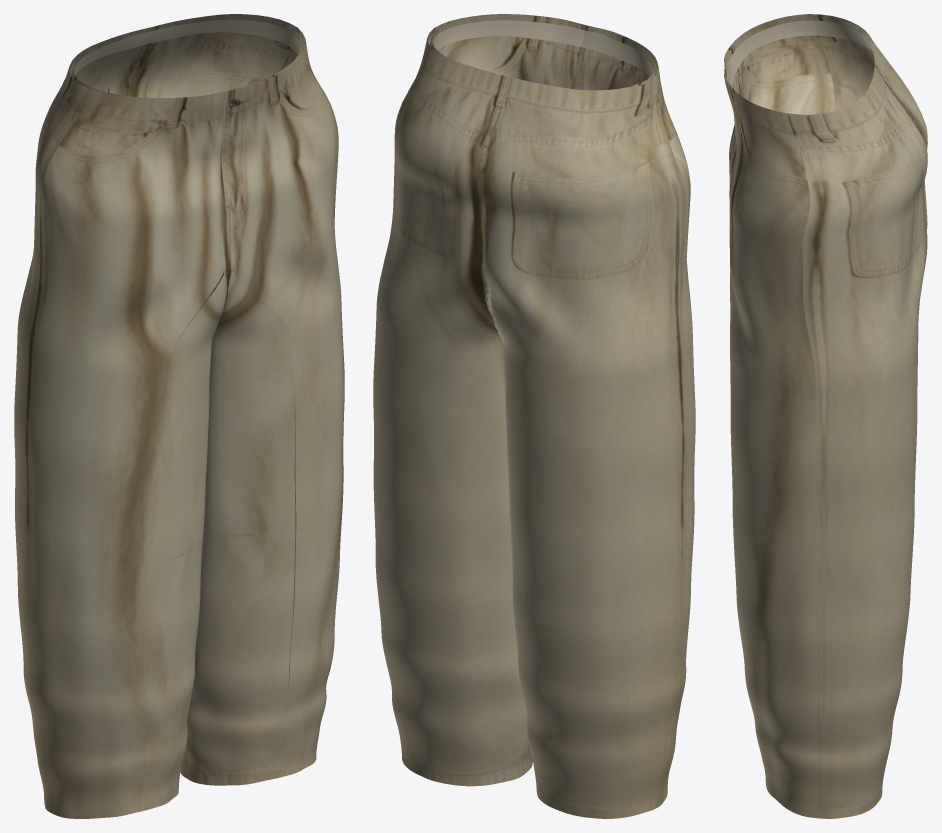
Rendered from signature-wide-chino.glb.
3 renders of one model, left to right at view 1: azimuth 30°, elevation 25°; view 2: azimuth 150°, elevation 25°; view 3: azimuth 270°, elevation 25°, orthographic. The views are drawn at different scales.
Visible parts, largest first — view 1: signature-wide-chino; view 2: signature-wide-chino; view 3: signature-wide-chino.
Boxes of the visible parts, left/top/right/bottom form: signature-wide-chino: left=14, top=14, right=344, bottom=818; signature-wide-chino: left=373, top=14, right=695, bottom=818; signature-wide-chino: left=724, top=14, right=927, bottom=818.
Bounding box in the file's own units: 0.4443 × 1.03 × 0.2718.
Materials: 3 (2 with a texture image).
